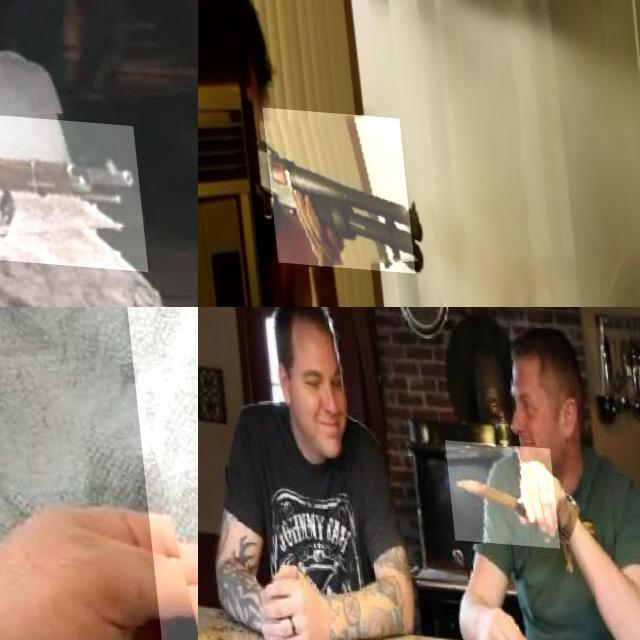-: (116, 307, 198, 640), (440, 434, 553, 541)
gun-knife-thesis - v11 Yolov5 augmented: (0, 89, 198, 264), (259, 106, 409, 270)
